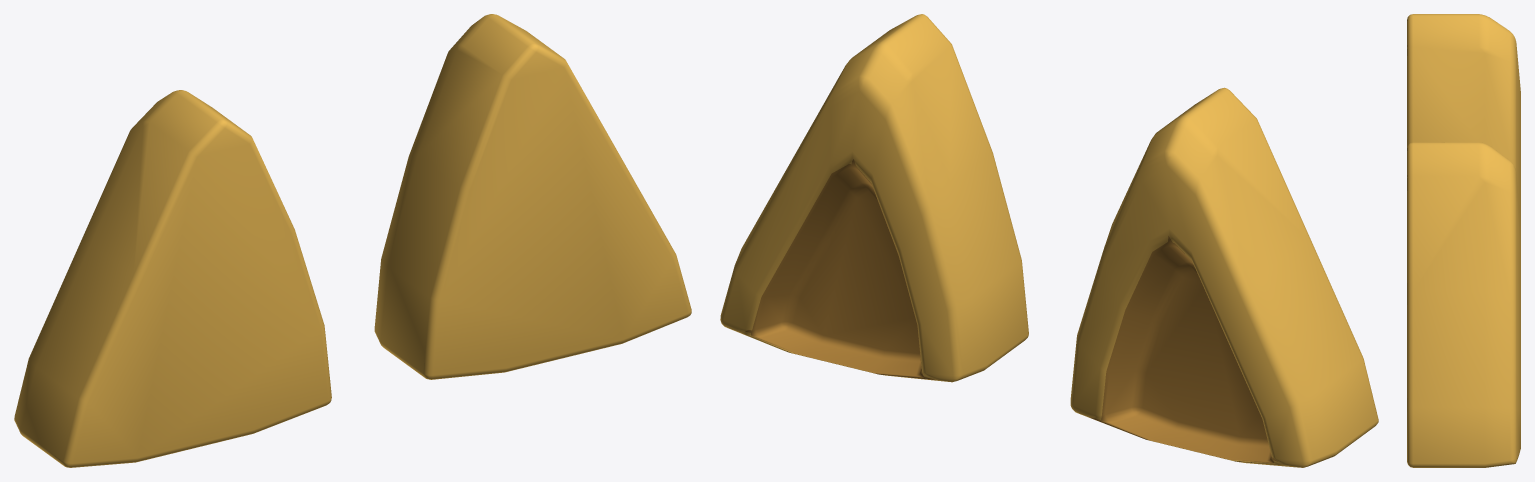
Rendered from cat-ears.glb.
The picture shows the model from 3 angles, left to right: view 1: azimuth 30°, elevation 25°; view 2: azimuth 150°, elevation 25°; view 3: azimuth 270°, elevation 25°; orthographic projection. The views are drawn at different scales.
Parts seen in each view (by area): view 1: CatEars_Sculpture; view 2: CatEars_Sculpture; view 3: CatEars_Sculpture.
Part boxes in pixels (left/top/right/bottom): CatEars_Sculpture: left=14, top=14, right=691, bottom=467; CatEars_Sculpture: left=720, top=14, right=1378, bottom=467; CatEars_Sculpture: left=1407, top=14, right=1520, bottom=467.
Bounding box in the file's own units: 0.3999 × 0.1955 × 0.0745.
